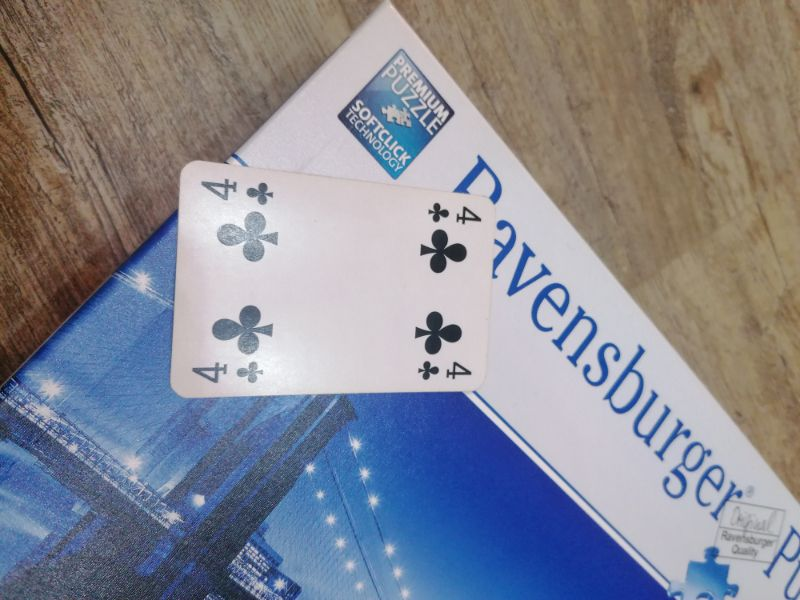4c: (196, 168, 277, 208), (190, 358, 267, 385), (421, 198, 486, 229), (410, 356, 477, 386)
